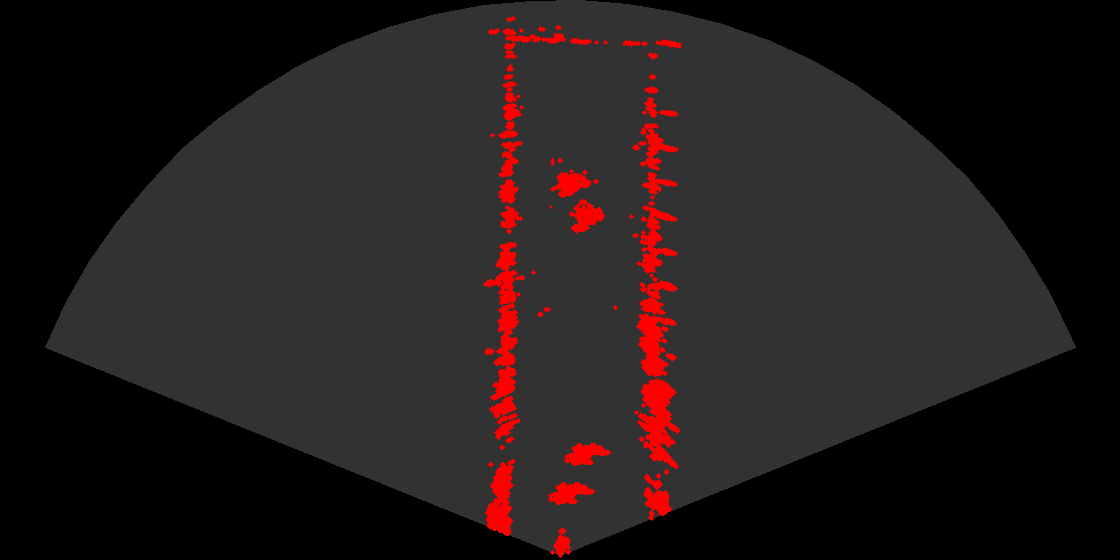AUV: (558, 441, 614, 473), (542, 480, 598, 512)
cage: (550, 158, 613, 242)
